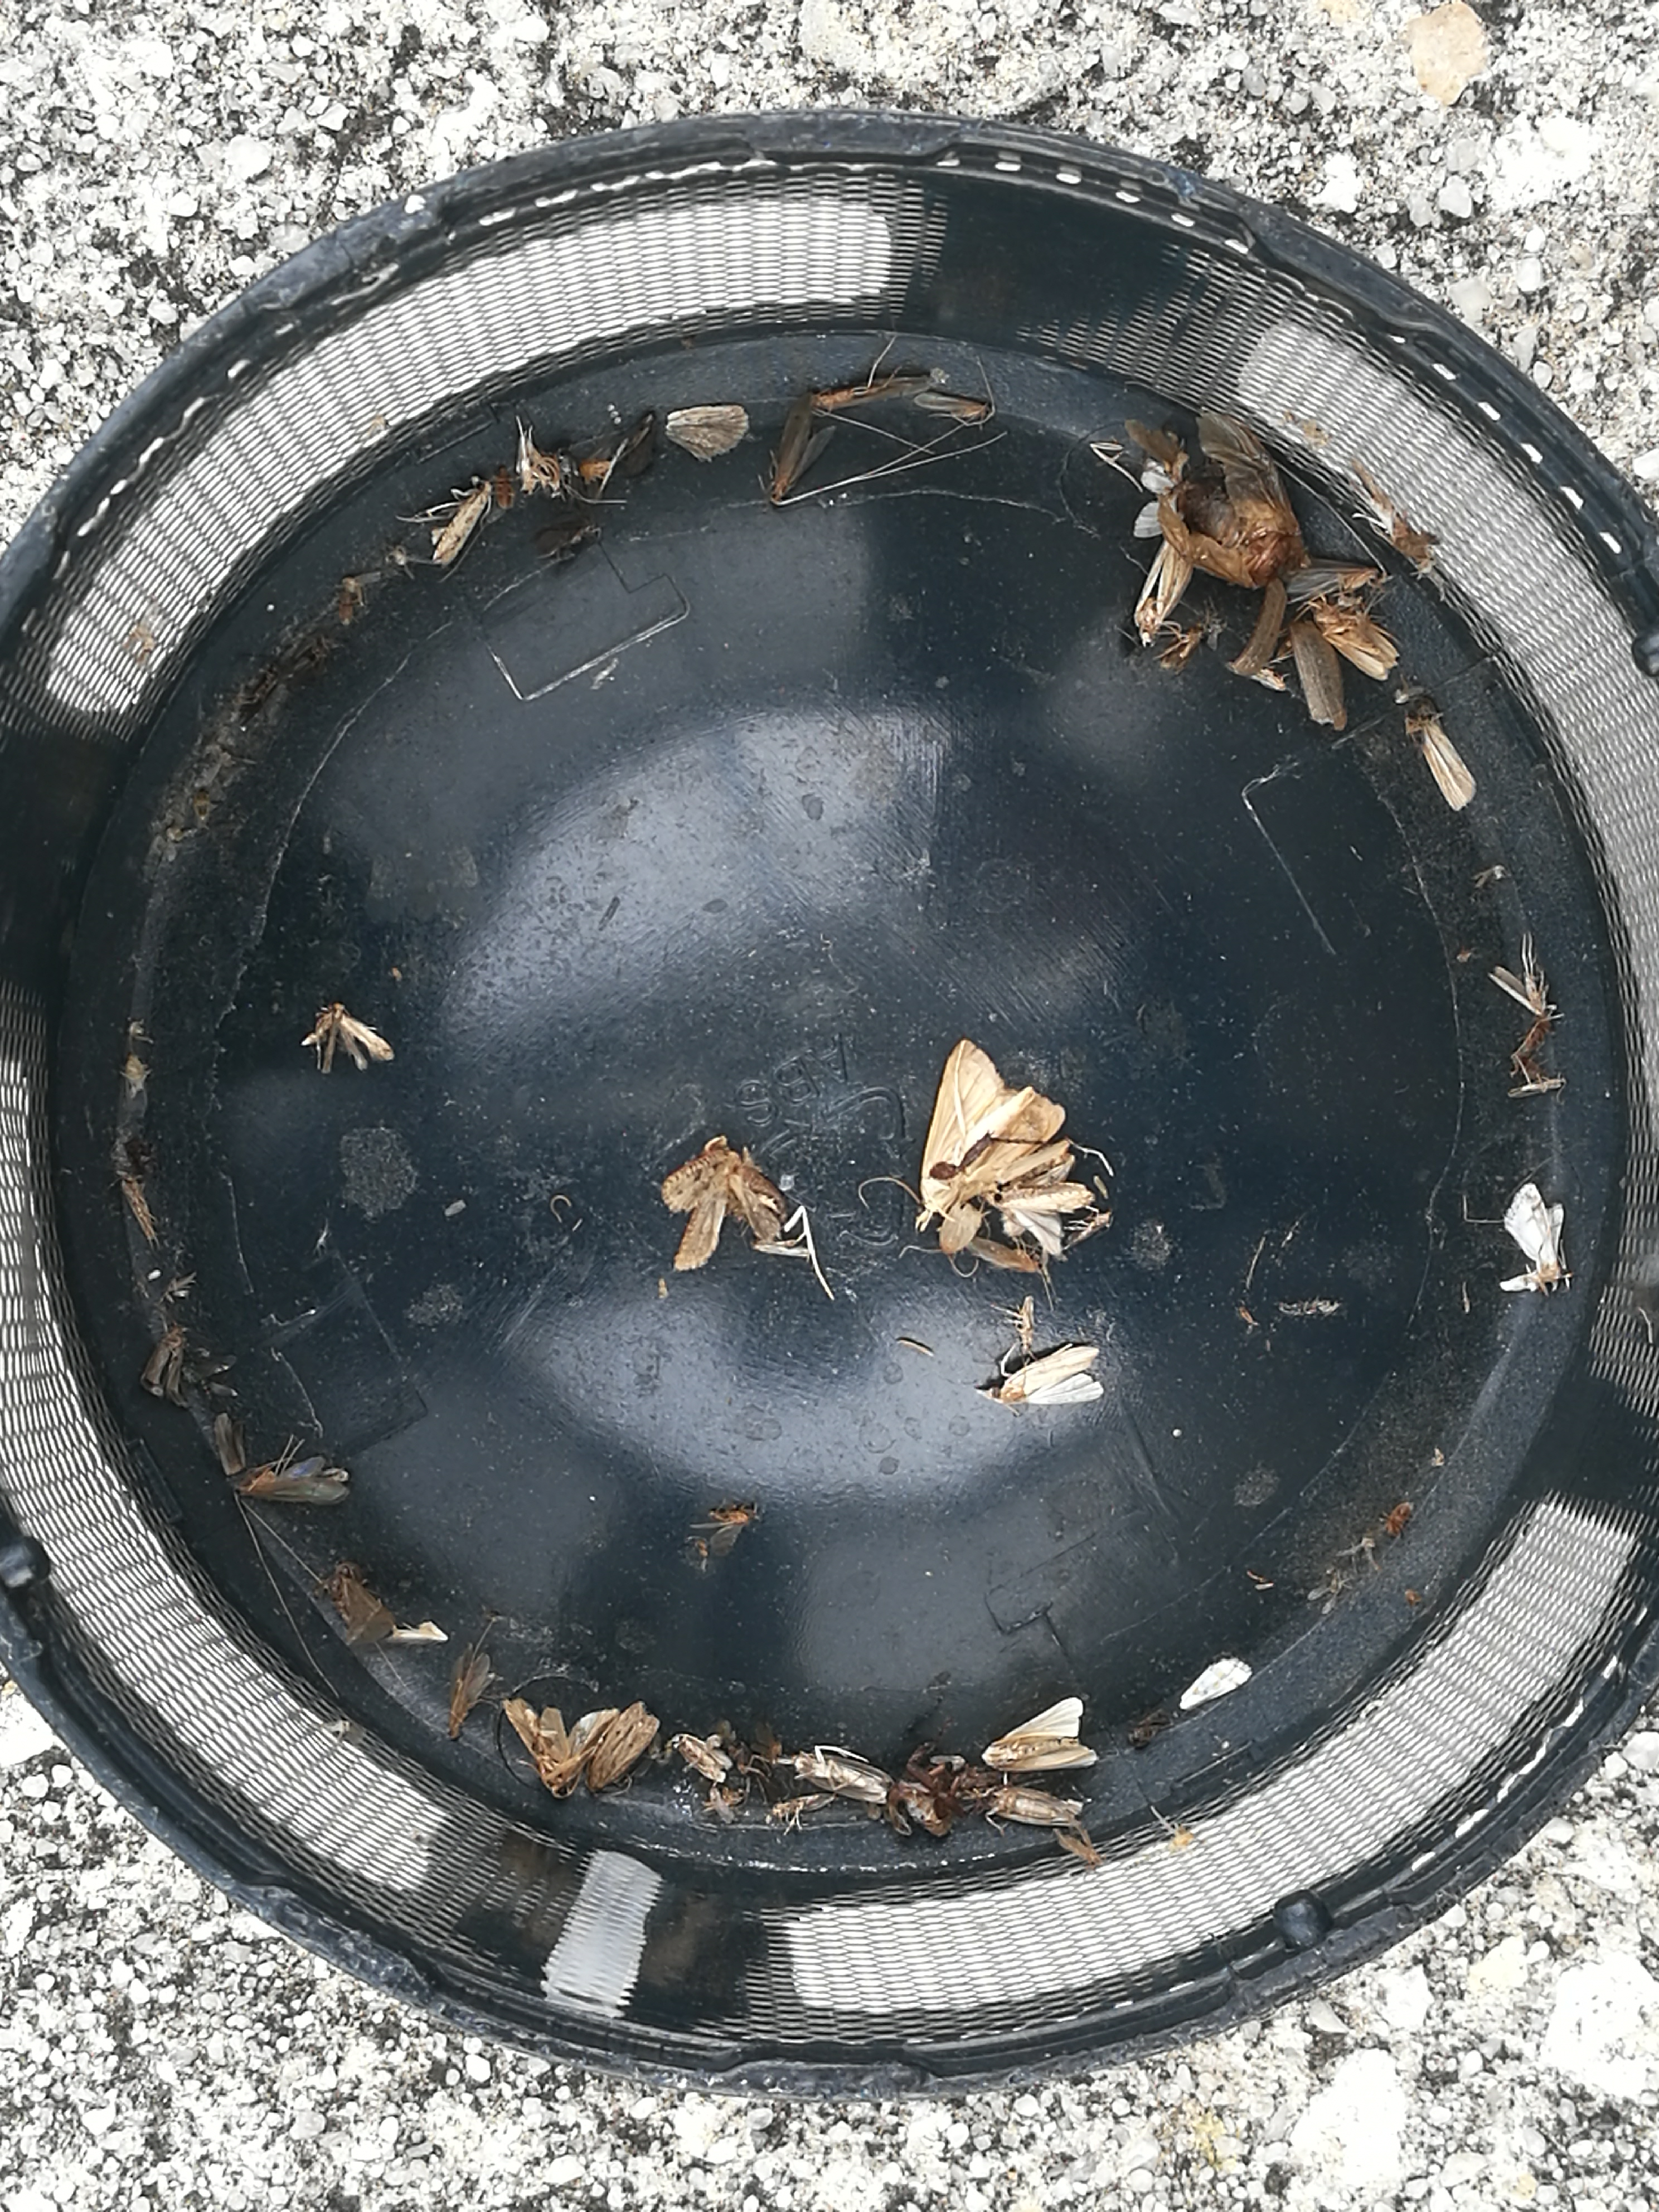beetle: (1175, 472, 1291, 585)
mosquito: (591, 1703, 659, 1794), (772, 406, 835, 502), (232, 1454, 349, 1505), (1134, 542, 1190, 646), (434, 477, 491, 563), (795, 1752, 892, 1801), (446, 1648, 493, 1743), (812, 374, 924, 411), (988, 1787, 1079, 1825), (674, 1731, 728, 1780), (1293, 568, 1382, 596), (915, 392, 990, 418)
moth: (920, 1038, 1065, 1216), (664, 1144, 779, 1273), (504, 1700, 615, 1796), (985, 1695, 1096, 1770), (992, 1190, 1096, 1256), (1000, 1345, 1107, 1404), (1314, 608, 1398, 679), (1507, 1183, 1563, 1285)
